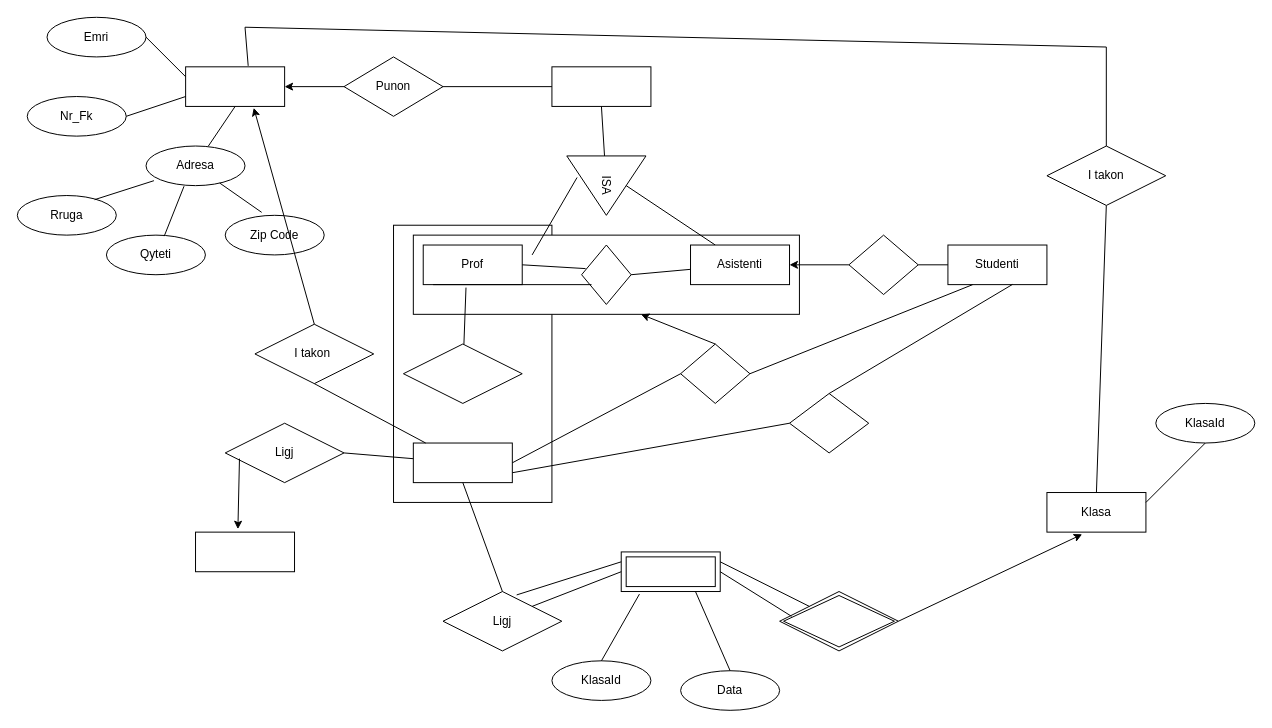
Image size: 1272x728. Some labels were removed from this diagram. Here are the shapes that lost their labels. From the top down, the centre of each, then its label:
At point (235, 86): "Fakulteti".
At point (601, 86): "Stafi Akademik".
At point (606, 274): "Ka".
At point (883, 264): "Keshillon".
At point (462, 373): "Ligjeron".
At point (715, 373): "Konsulton".
At point (829, 423): "Ndjek".
At point (462, 462): "Lenda".
At point (245, 551): "Semestri".
At point (670, 571): "Orari".
At point (838, 621): "Identifikohet".
